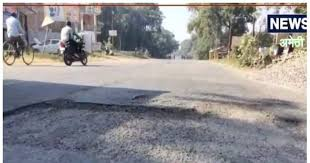potholes: (123, 90, 158, 107)
